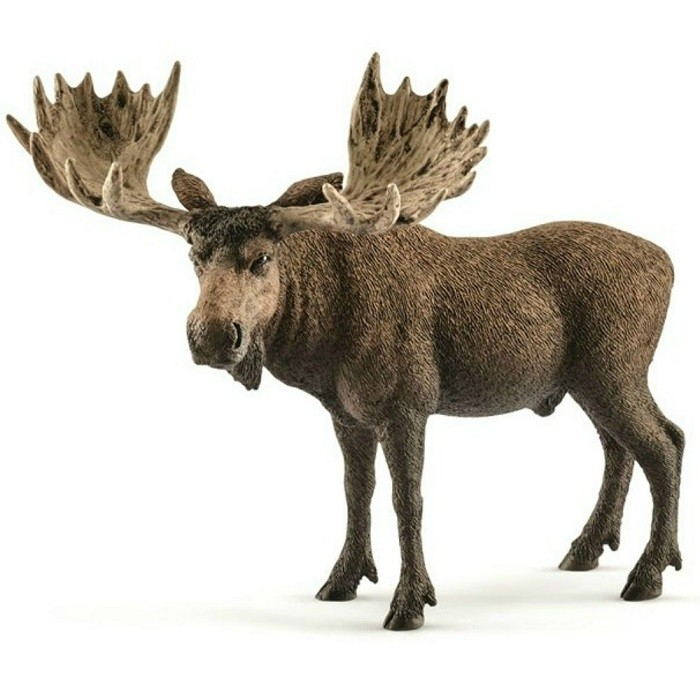moose: (7, 54, 684, 631)
